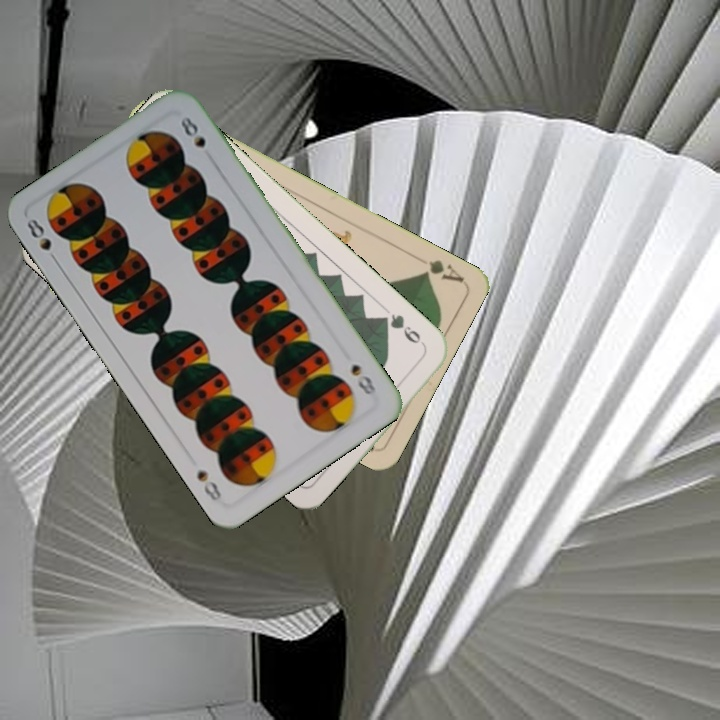G9: (376, 309, 429, 351)
GA: (419, 255, 466, 285)
S8: (22, 214, 62, 267), (346, 359, 379, 398)
